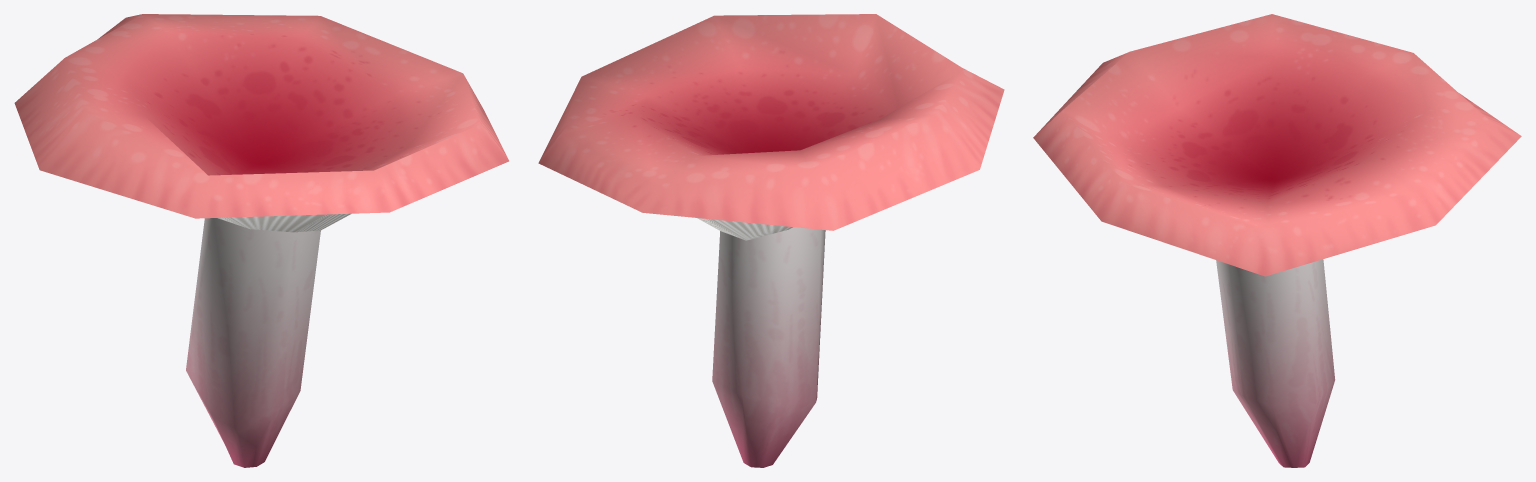
Rendered from russula_low.FBX.
3 views of the same model, side by side, from view 1: azimuth 30°, elevation 25°; view 2: azimuth 150°, elevation 25°; view 3: azimuth 270°, elevation 25° (orthographic). The views are drawn at different scales.
Parts seen in each view (by area): view 1: russula_pink_low; view 2: russula_pink_low; view 3: russula_pink_low.
Boxes of the visible parts, left/top/right/bottom form: russula_pink_low: left=14, top=14, right=508, bottom=467; russula_pink_low: left=538, top=14, right=1004, bottom=467; russula_pink_low: left=1033, top=14, right=1521, bottom=467.
Bounding box in the file's own units: 0.7168 × 0.6209 × 0.7431.
1 material, 1 textured.
